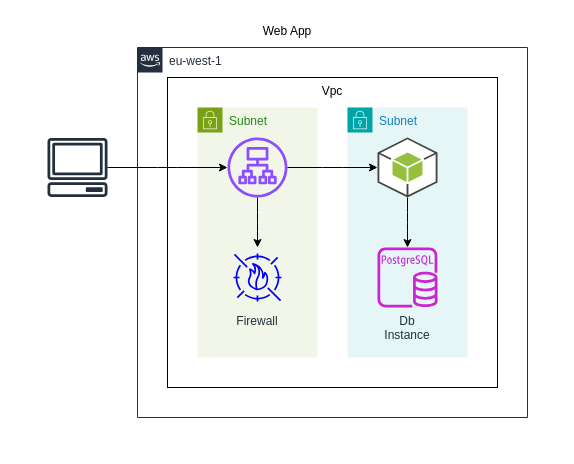
Image size: 574x464. Some labels were removed from this diagram. The shapes that lost their labels are listed below. From the top down, each one's centre as x and y in pixels, then its label:
(x=77, y=167): Client
(x=257, y=167): Lb
(x=407, y=167): Instance
